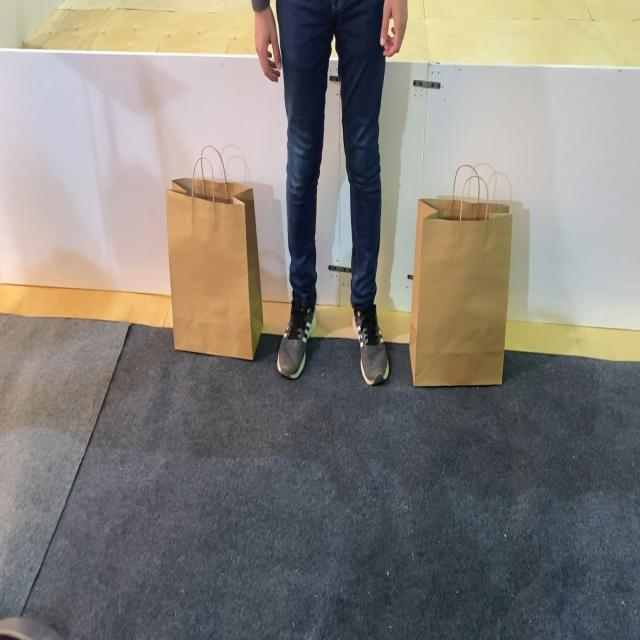Paper_Bag: (408, 164, 512, 386), (166, 144, 264, 360)
